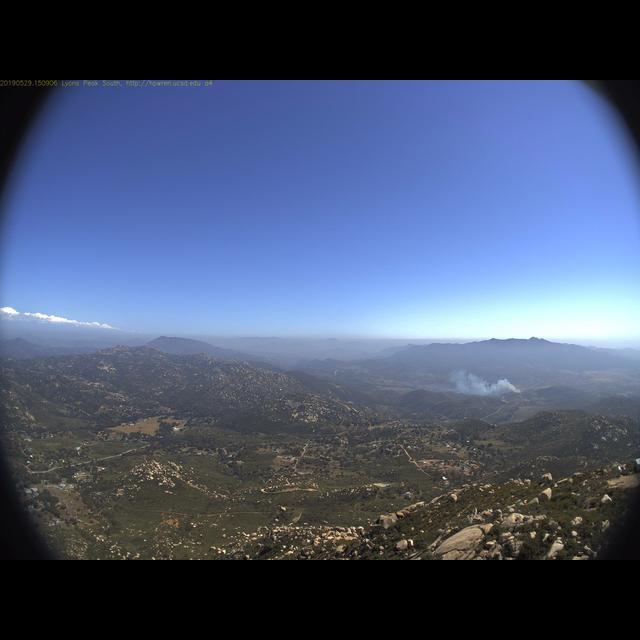Smoke: (442, 363, 520, 397)
